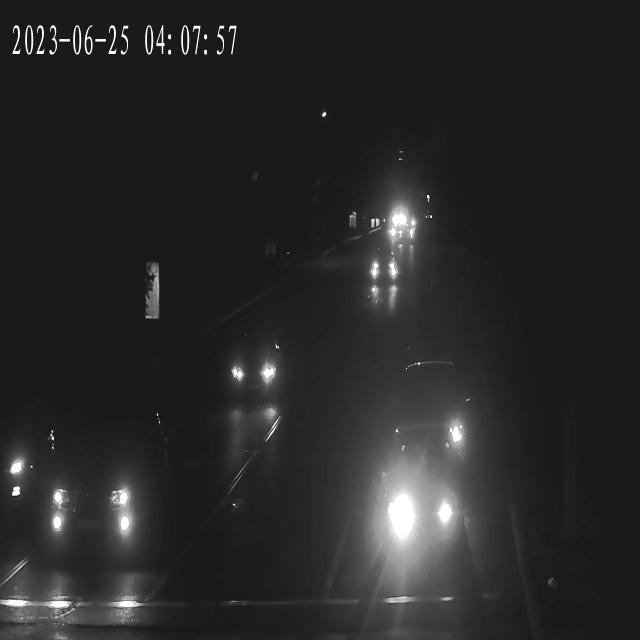Car: (44, 398, 168, 568), (398, 363, 472, 468), (378, 469, 456, 548), (217, 336, 282, 399), (0, 401, 43, 494), (364, 251, 396, 288), (389, 228, 414, 248), (392, 226, 417, 246), (388, 214, 407, 227)
